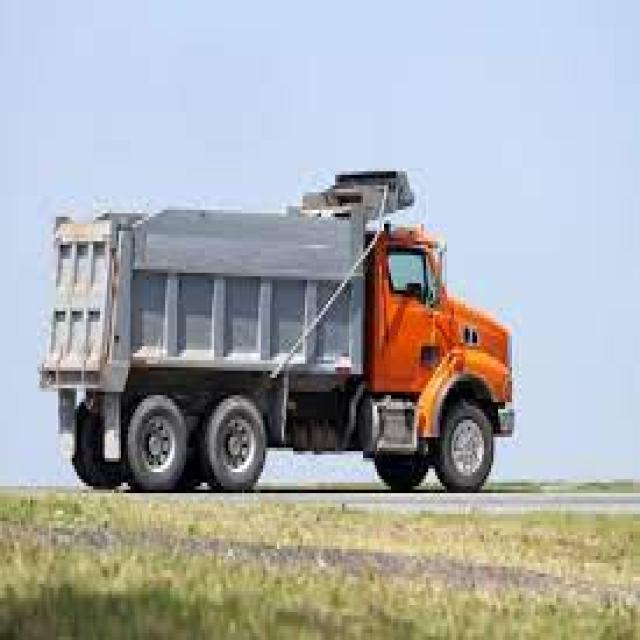dump_truck: (41, 167, 518, 494)
